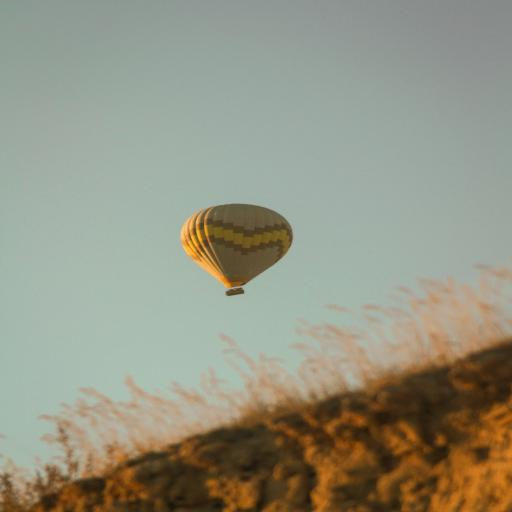hot air ballon: (180, 203, 295, 297)
